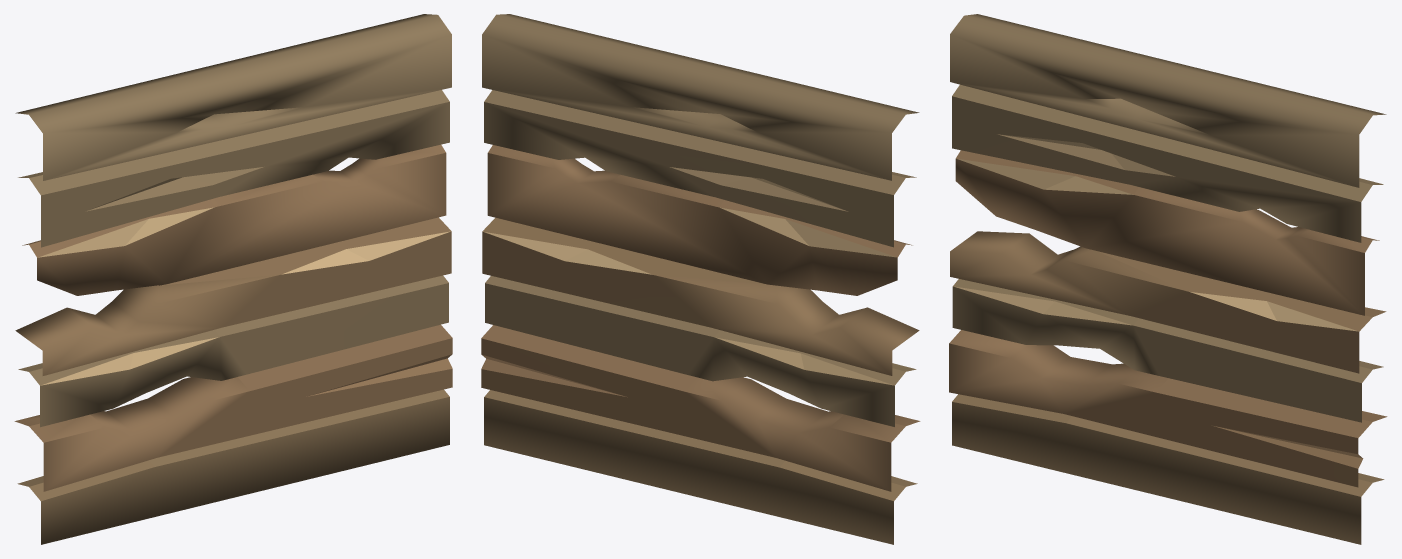
File: rpgpp_av_wall_01_3x3_a.gltf
The picture shows the model from 3 angles, left to right: view 1: azimuth 30°, elevation 25°; view 2: azimuth 150°, elevation 25°; view 3: azimuth 330°, elevation 25°; orthographic projection.
Visible parts, largest first — view 1: rpgpp_av_wall_01_3x3_a; view 2: rpgpp_av_wall_01_3x3_a; view 3: rpgpp_av_wall_01_3x3_a.
Boxes of the visible parts, bbox=[...] form: rpgpp_av_wall_01_3x3_a: bbox=[14, 14, 452, 544]; rpgpp_av_wall_01_3x3_a: bbox=[481, 14, 920, 544]; rpgpp_av_wall_01_3x3_a: bbox=[949, 14, 1387, 544].
Bounding box in the file's own units: 0.03 × 0.03 × 0.00378.
1 material, 1 textured.
